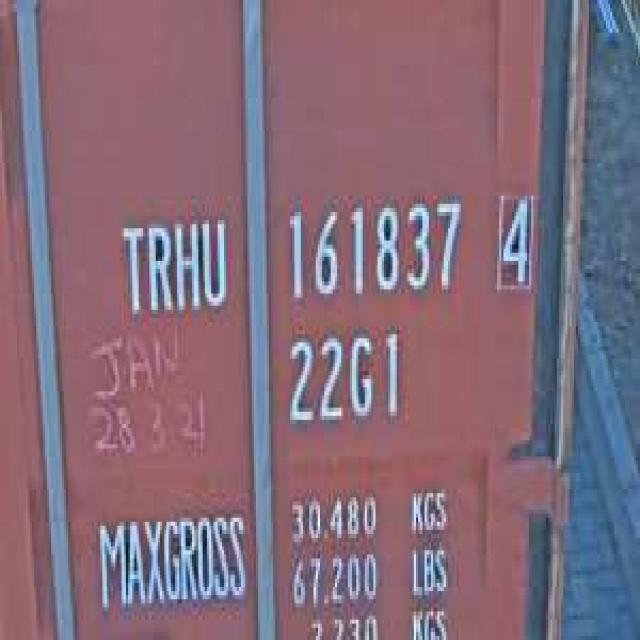dv: (490, 184, 536, 298)
owner: (118, 200, 232, 326)
serial: (277, 183, 465, 306)
size: (280, 322, 408, 436)
